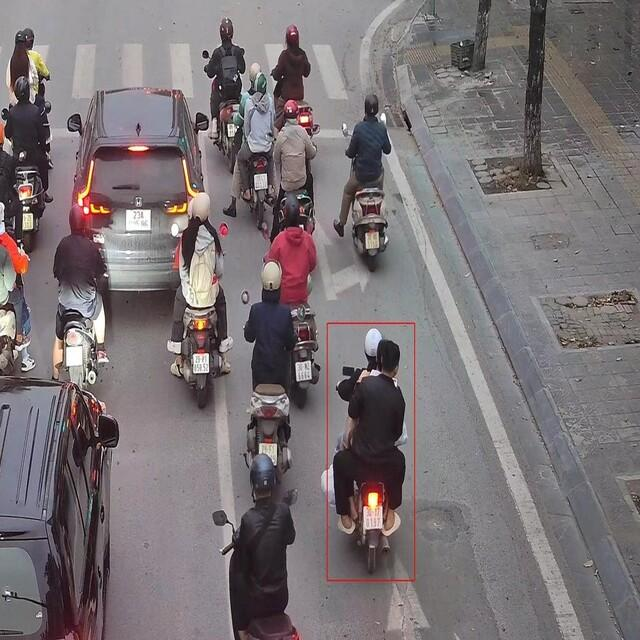car: (0, 376, 120, 640), (72, 87, 200, 300)
motorcycle: (244, 383, 293, 489), (176, 308, 223, 414), (352, 477, 393, 577), (58, 318, 99, 401), (352, 190, 392, 270), (12, 165, 44, 252), (248, 156, 273, 231)
plate: (361, 503, 384, 531), (64, 344, 86, 368), (125, 209, 150, 230), (294, 360, 315, 383), (191, 352, 211, 376), (364, 232, 381, 250), (254, 173, 269, 191)
